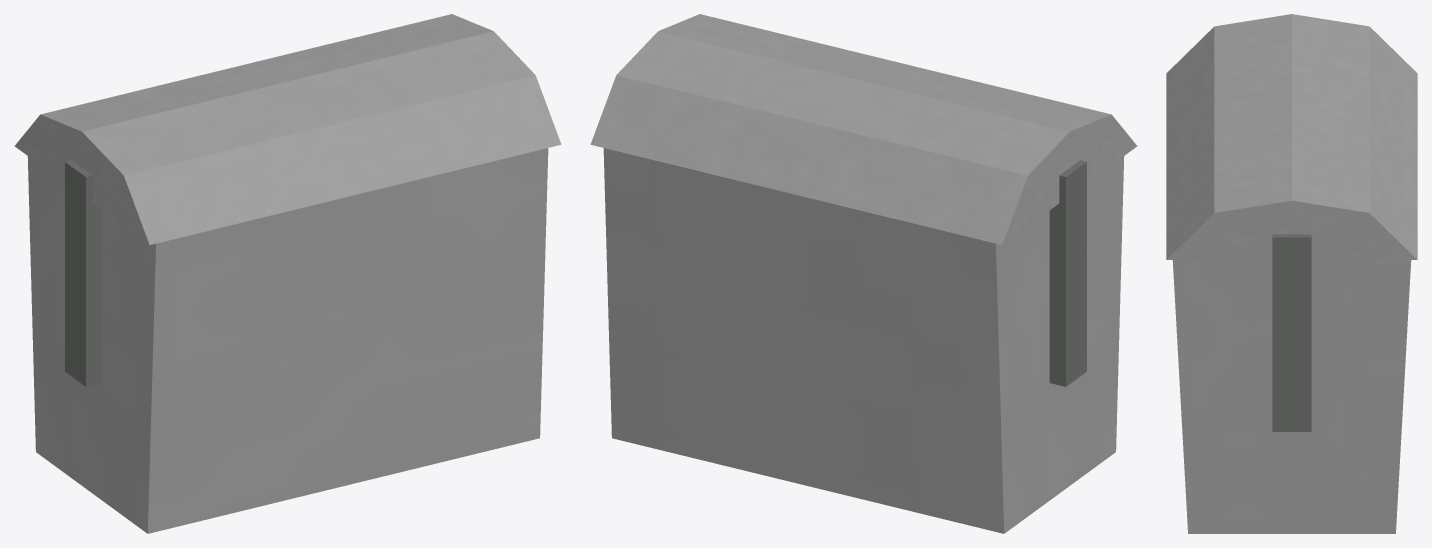
Rendered from trashbox.001.glb.
3 views of the same model, side by side, from view 1: azimuth 30°, elevation 25°; view 2: azimuth 150°, elevation 25°; view 3: azimuth 270°, elevation 25° (orthographic). The views are drawn at different scales.
Parts seen in each view (by area): view 1: trashbox.001(Clone); view 2: trashbox.001(Clone); view 3: trashbox.001(Clone).
Part boxes in pixels (x1=…): trashbox.001(Clone): x1=14, y1=14, x2=561, y2=533; trashbox.001(Clone): x1=590, y1=14, x2=1137, y2=533; trashbox.001(Clone): x1=1166, y1=14, x2=1417, y2=533.
Bounding box in the file's own units: 1.51 × 1.23 × 0.8313.
Materials: 1 (1 with a texture image).
